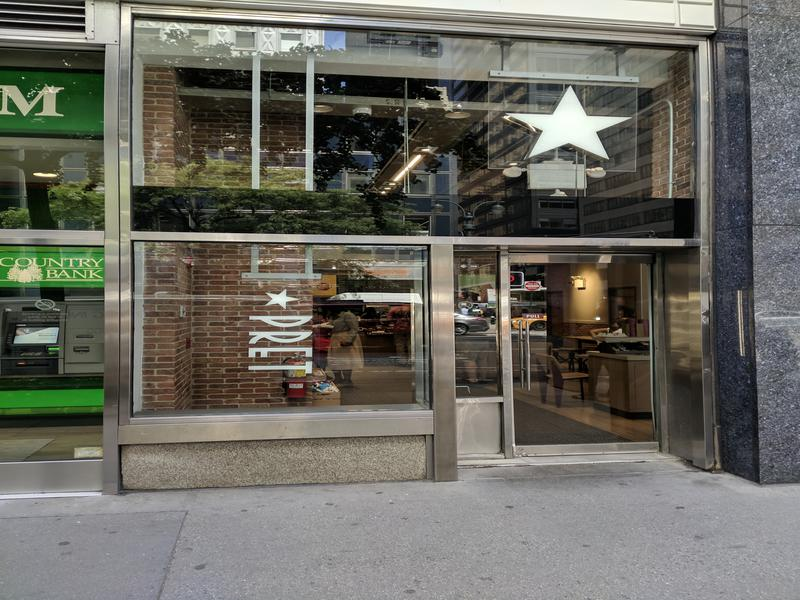door: (503, 237, 664, 452)
